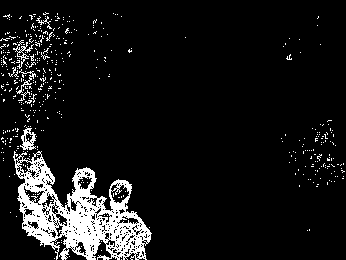person: (24, 167, 54, 248), (75, 163, 97, 259), (18, 124, 53, 178)
